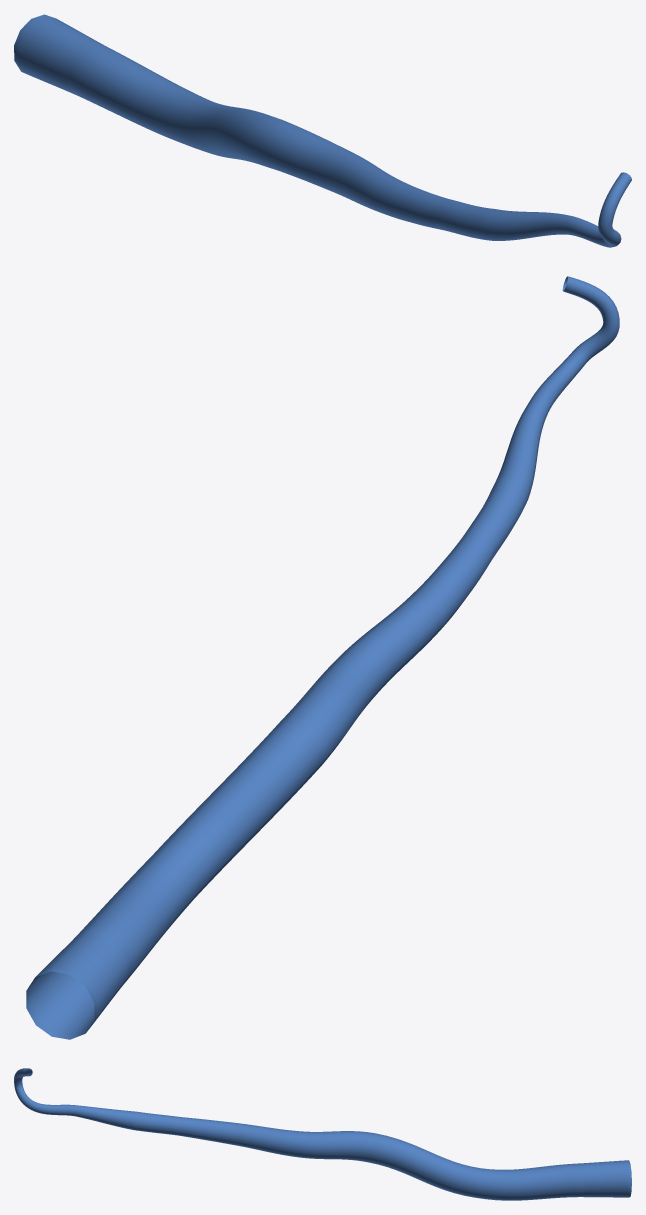
The picture shows the model from 3 angles, top to bottom: view 1: azimuth 30°, elevation 25°; view 2: azimuth 150°, elevation 25°; view 3: azimuth 270°, elevation 25°; orthographic projection. The views are drawn at different scales.
Visible parts, largest first — view 1: 左侧颈内静脉; view 2: 左侧颈内静脉; view 3: 左侧颈内静脉.
Boxes of the visible parts, <box> form: 左侧颈内静脉: <box>14,14,631,247</box>; 左侧颈内静脉: <box>26,276,619,1039</box>; 左侧颈内静脉: <box>14,1068,631,1200</box>.
Bounding box in the file's own units: 0.0293 × 0.064 × 0.2397.
